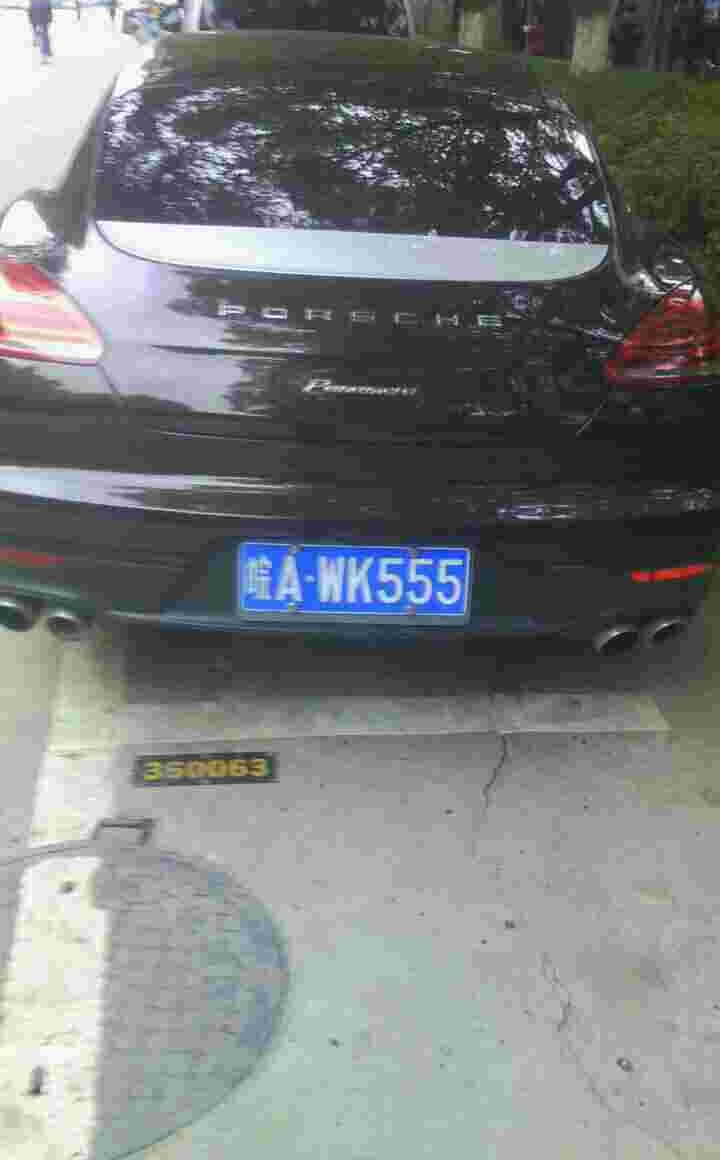license_plate: (241, 550, 477, 618)
